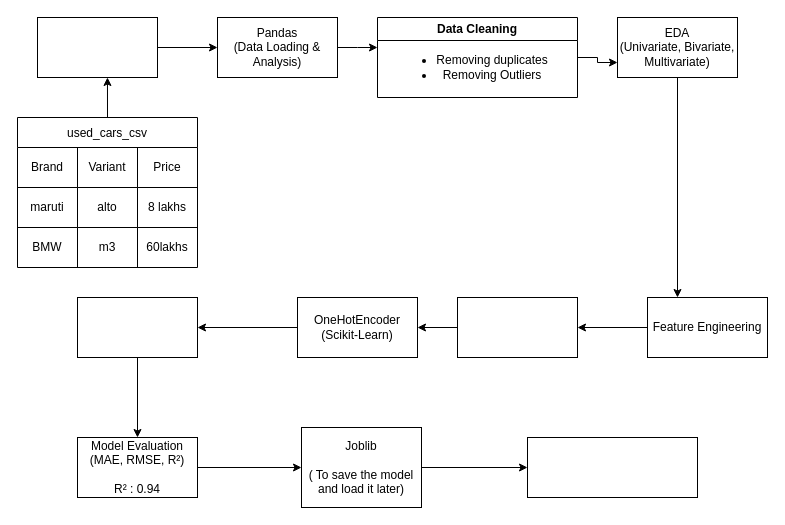
The diagram is 785 pixels wide and 525 high, and some of its shapes have lost their labels. The centre of each missing label's shape, as x and y in pixels:
"ColumnTransformer (Scikit-Learn)" belongs at point (517, 327).
"Dataset (used_cars.csv)" belongs at point (97, 47).
"vehicle_price_model_v1.pkl" belongs at point (612, 467).
"XGBoost Regressor" belongs at point (137, 327).
